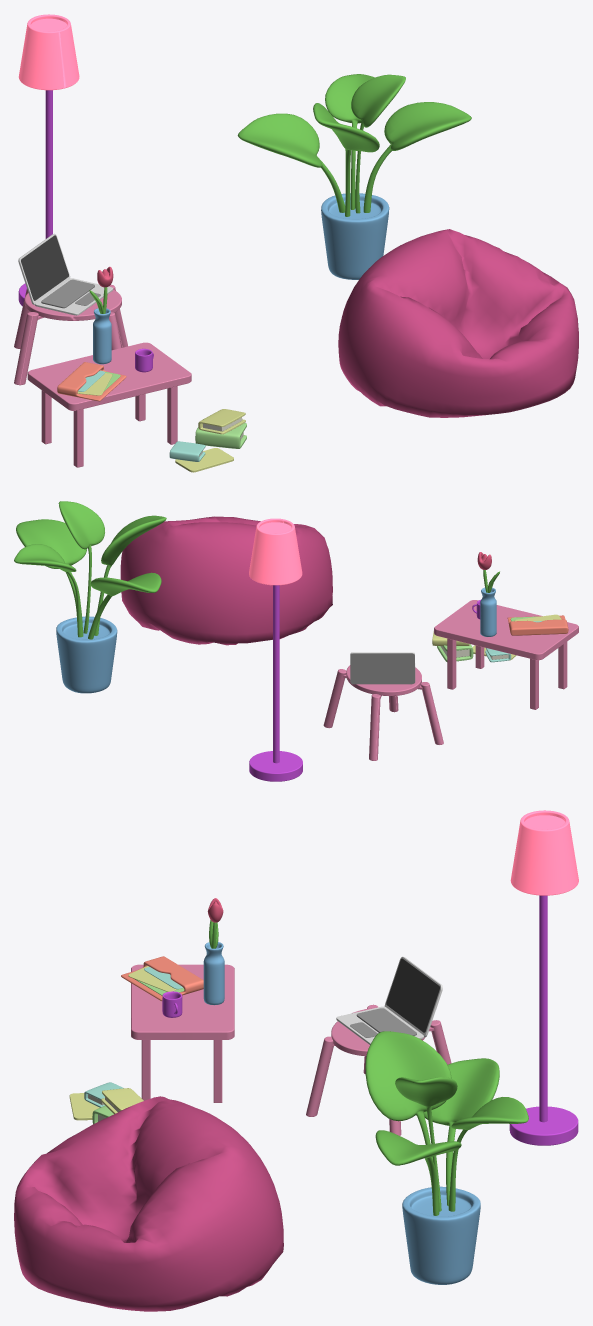
Rendered from Room.glb.
3 views of the same model, one above another, from view 1: azimuth 30°, elevation 25°; view 2: azimuth 150°, elevation 25°; view 3: azimuth 270°, elevation 25° (orthographic). The views are drawn at different scales.
Visible parts, largest first — view 1: Cube, Rectangle.001, Cube 6, Cylinder 4, Cube 10, Cube 8, Cube 11, Rectangle 2.008, Cube 7, Cube 9, Cylinder 3, Cube.002 (+11 smaller); view 2: Cube, Cube 6, Rectangle.001, Cylinder 4, Rectangle.002, Cube 8, Cube 11, Cylinder 2, Cube 10, Cube 9, Cube 7, Cylinder 3 (+9 smaller); view 3: Cube, Cube 6, Cube 9, Rectangle.001, Cylinder 4, Cube 10, Rectangle 2.008, Cylinder 3, Cube 8, Cylinder 2, Cube 7, Cube 11 (+7 smaller).
Boxes of the visible parts, x1,y1,x2,y2 form: Cube: (338, 229, 578, 417); Rectangle.001: (27, 342, 191, 410); Cube 6: (321, 193, 389, 279); Cylinder 4: (18, 14, 79, 90); Cube 10: (237, 113, 345, 212); Cube 8: (363, 102, 471, 212); Cube 11: (351, 74, 405, 213); Rectangle 2.008: (21, 235, 68, 300); Cube 7: (325, 74, 374, 209); Cube 9: (313, 103, 379, 216); Cylinder 3: (45, 90, 52, 238); Cube.002: (57, 362, 126, 401); Cube: (120, 516, 332, 645); Cube 6: (56, 616, 117, 693); Rectangle.001: (434, 600, 578, 660); Cylinder 4: (249, 518, 302, 585); Rectangle.002: (350, 652, 415, 684); Cube 8: (16, 519, 86, 627); Cube 11: (58, 501, 104, 633); Cylinder 2: (249, 751, 302, 781); Cube 10: (88, 572, 161, 639); Cube 9: (94, 515, 166, 635); Cube 7: (14, 544, 83, 637); Cylinder 3: (273, 585, 279, 763); Cube: (14, 1096, 283, 1311); Cube 6: (402, 1186, 480, 1284); Cube 9: (365, 1031, 451, 1159); Rectangle.001: (131, 964, 234, 1039); Cylinder 4: (510, 810, 578, 895); Cube 10: (423, 1058, 499, 1205); Rectangle 2.008: (386, 958, 439, 1032); Cylinder 3: (539, 895, 547, 1122); Cube 8: (375, 1130, 461, 1215); Cylinder 2: (509, 1106, 578, 1145); Cube 7: (448, 1097, 528, 1211); Cube 11: (395, 1077, 457, 1211).
Size of what is drawn, in the model's own units: 12.07 by 6.19 by 10.13.
